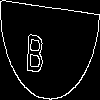B: (25, 25, 46, 74)
